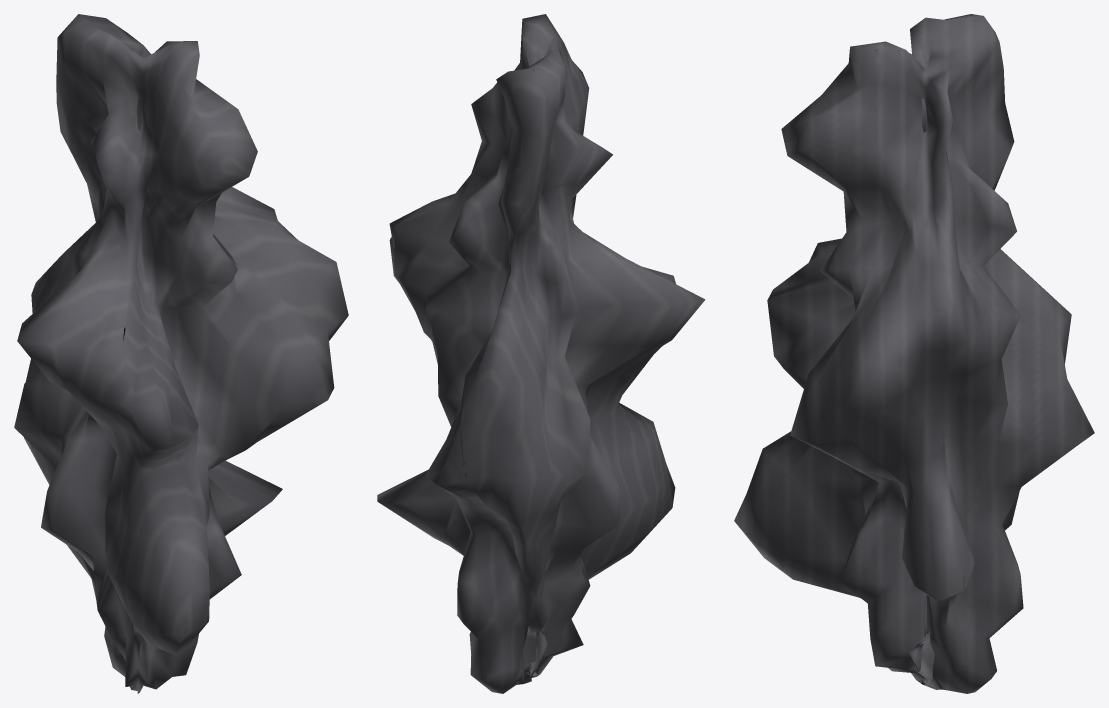
File: cairn_menhir_lean.glb
The picture shows the model from 3 angles, left to right: view 1: azimuth 30°, elevation 25°; view 2: azimuth 150°, elevation 25°; view 3: azimuth 270°, elevation 25°; orthographic projection. The views are drawn at different scales.
Visible parts, largest first — view 1: cairn_menhir_lean; view 2: cairn_menhir_lean; view 3: cairn_menhir_lean.
Boxes of the visible parts, <box> form: cairn_menhir_lean: <box>14,14,348,693</box>; cairn_menhir_lean: <box>377,14,705,693</box>; cairn_menhir_lean: <box>734,14,1094,693</box>.
Size of the model in its own units: 1.77 by 3.48 by 1.74.
1 material, 1 textured.
